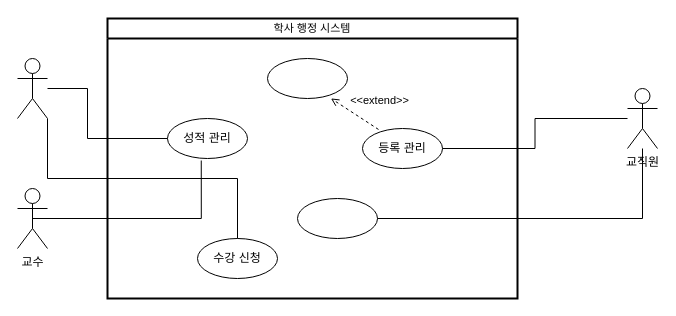
Image size: 676x316. Some labels were removed from this diagram. Each missing label, with the centre of its shape:
"수강 관리" goes at (x=337, y=218).
"장학금" goes at (x=307, y=78).
"학생" goes at (x=32, y=88).
